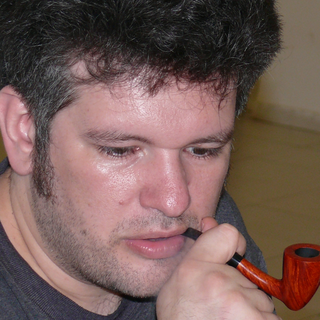eye: (95, 140, 146, 164), (179, 140, 224, 164)
